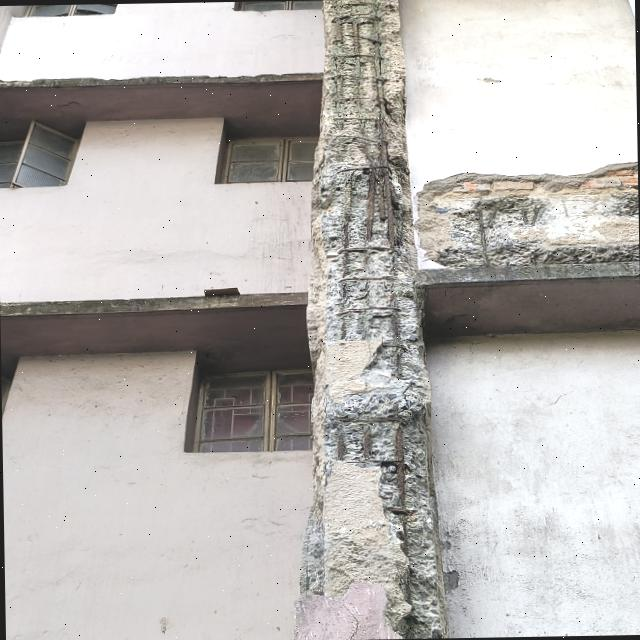Spalling: (300, 0, 445, 639), (414, 162, 639, 269)
